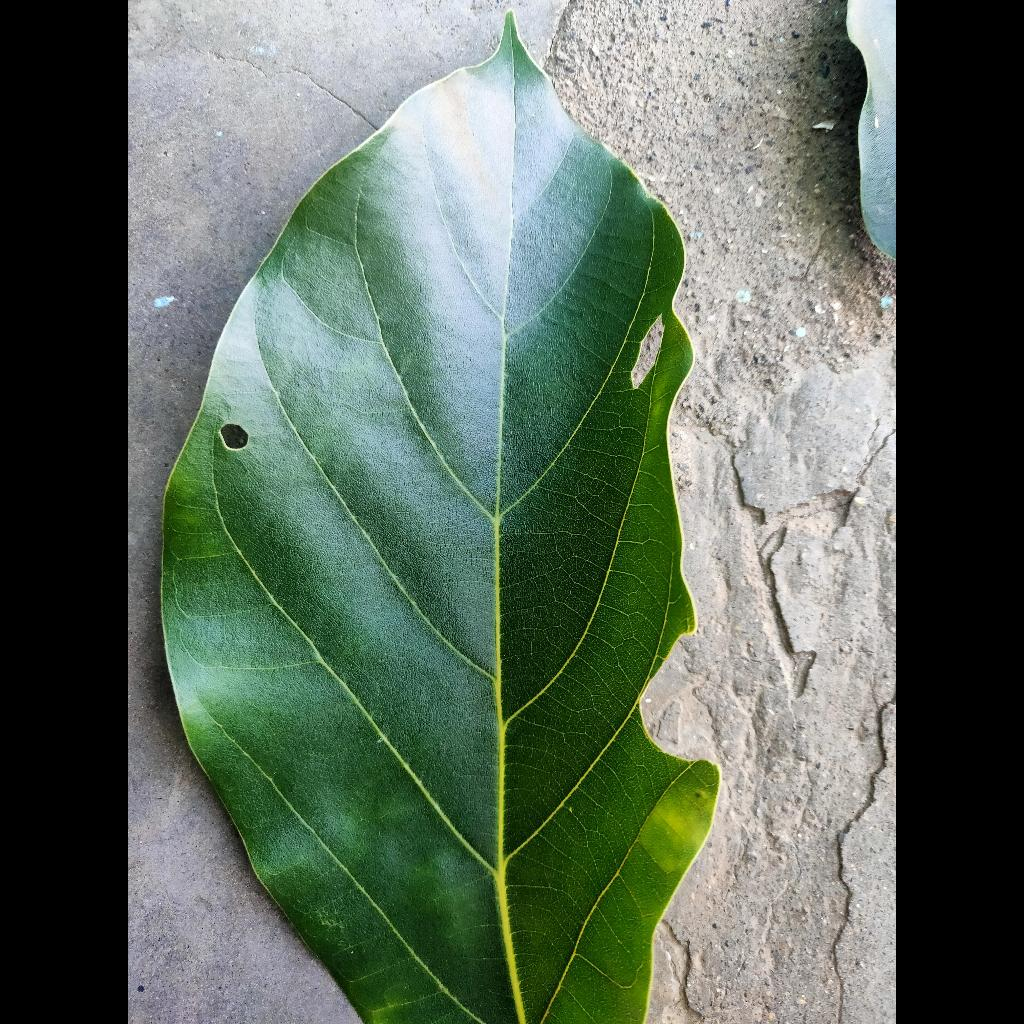Pest attack: (630, 607, 752, 801), (610, 287, 694, 421), (196, 405, 296, 483)
